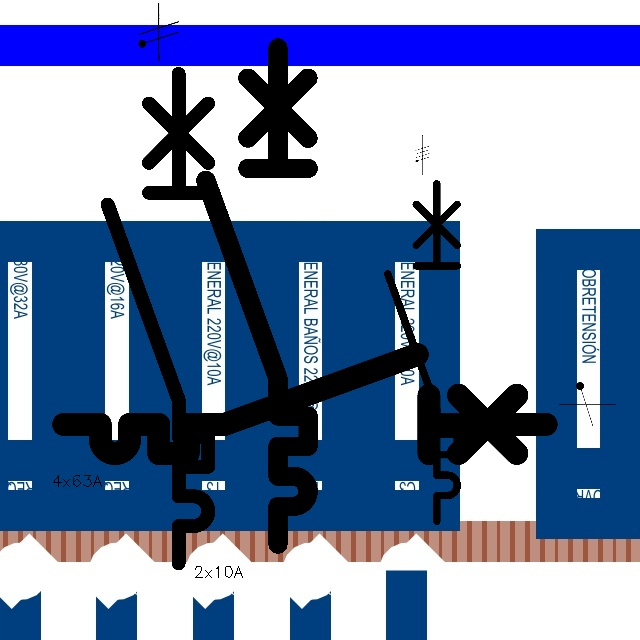interruptor_termomagnetico: (193, 35, 321, 557), (95, 61, 221, 575), (51, 342, 559, 466), (379, 175, 466, 530)
